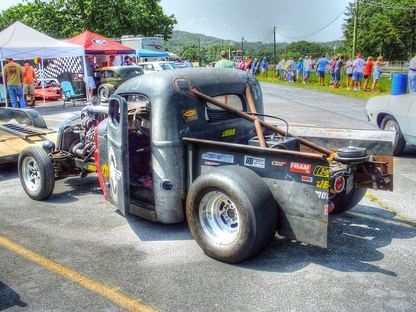car: (367, 91, 416, 157), (60, 65, 144, 103), (132, 60, 179, 74)
truck: (18, 67, 398, 264)
